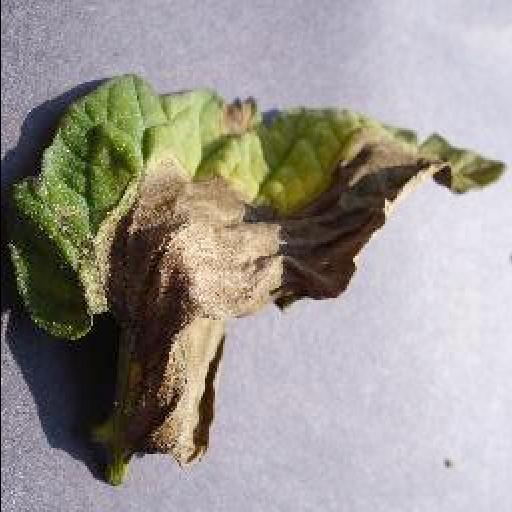disease_tomato: (0, 74, 510, 486)
